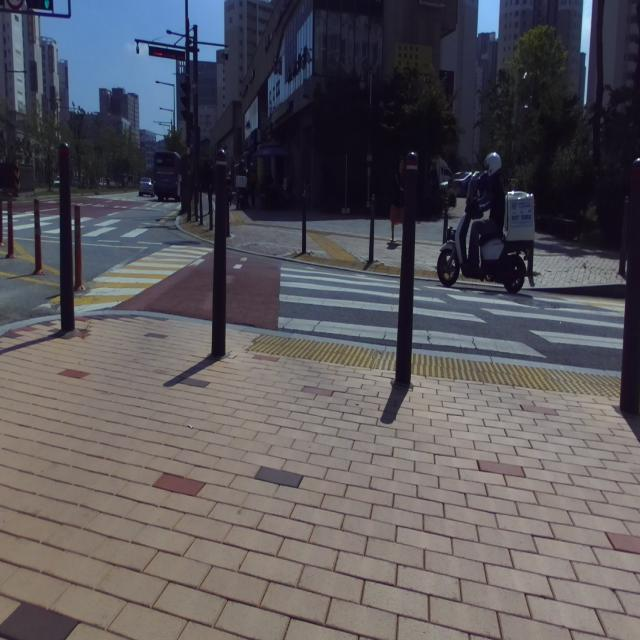횡단보도: (278, 267, 624, 357), (0, 204, 152, 243)
